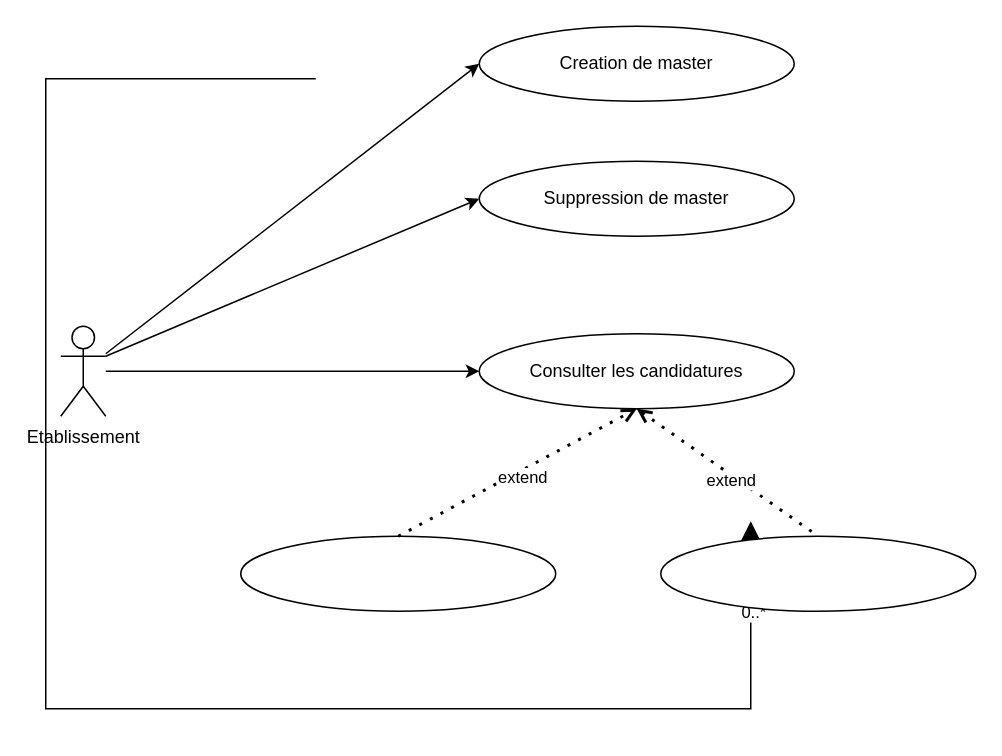
Some shapes in this 1002 by 756 pixel diagram are drawn without their labels. The centre of each missing label's shape, as x and y in pixels:
"Accepter" goes at point (397, 573).
"Rejeter" goes at point (817, 573).
